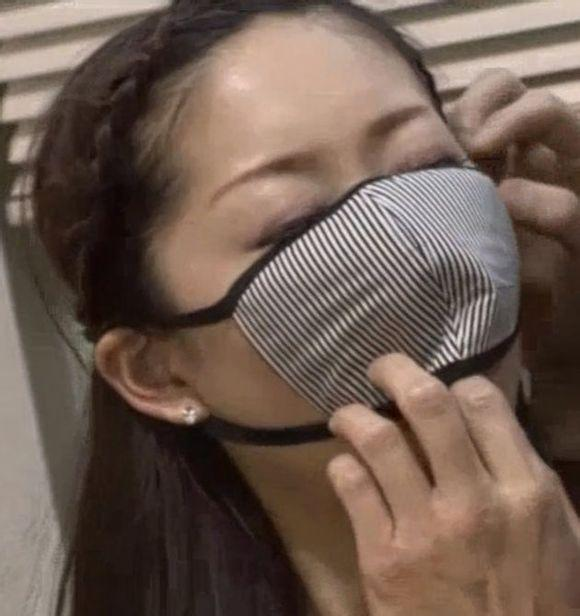WRONG: (156, 80, 536, 446)
